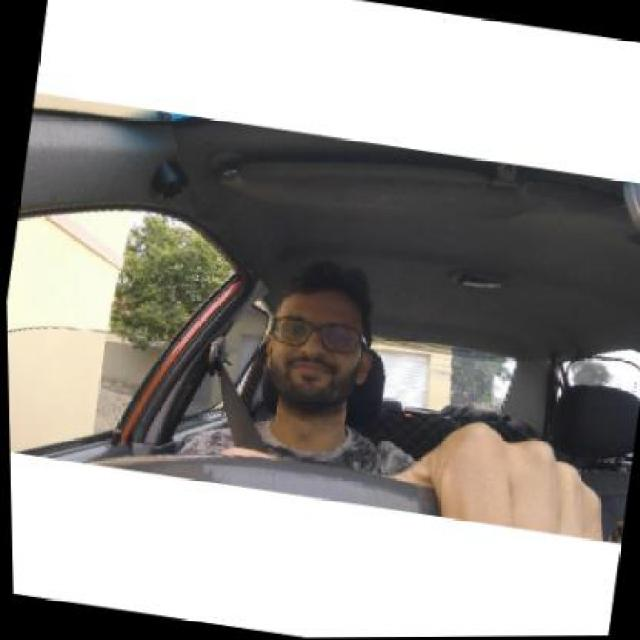person: (263, 257, 382, 418)
